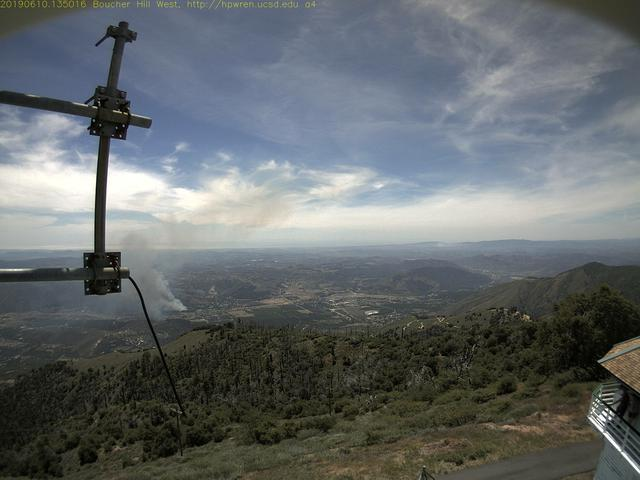smoke: (124, 233, 188, 319)
